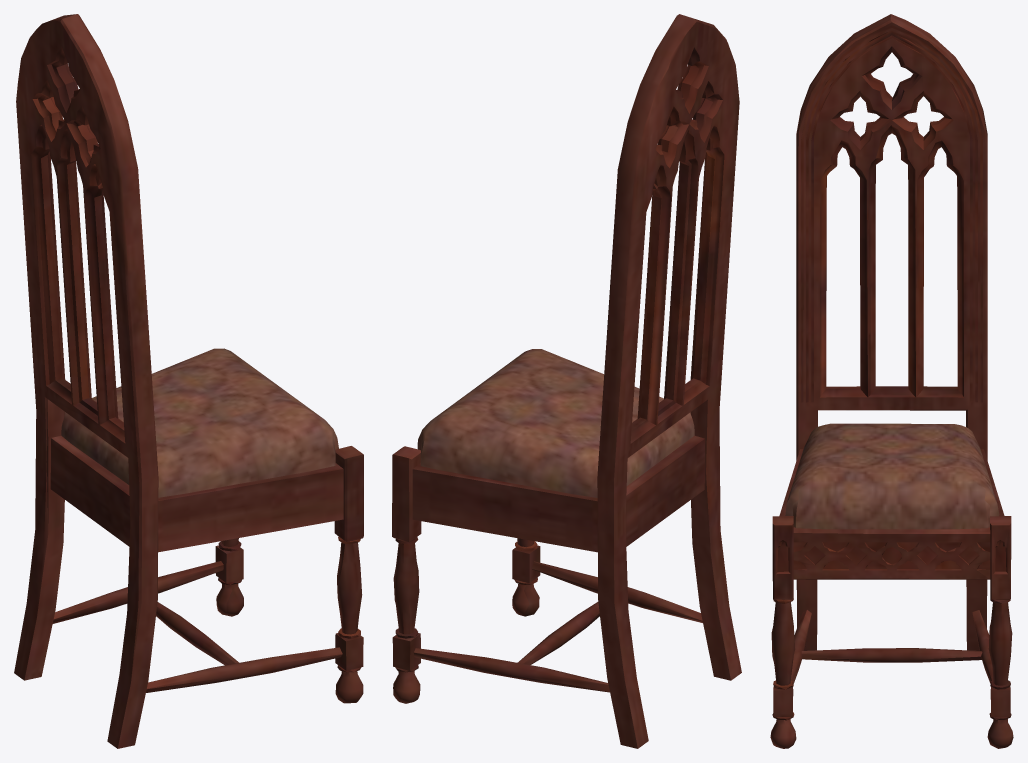
Rendered from chair-gothic.lod1.glb.
3 renders of one model, left to right at view 1: azimuth 30°, elevation 25°; view 2: azimuth 150°, elevation 25°; view 3: azimuth 270°, elevation 25°, orthographic. The views are drawn at different scales.
Parts seen in each view (by area): view 1: chair-gothic; view 2: chair-gothic; view 3: chair-gothic.
Boxes of the visible parts, box(x1,y1,x2,y2) form: chair-gothic: box(14, 14, 363, 748); chair-gothic: box(392, 14, 741, 748); chair-gothic: box(770, 14, 1013, 748).
Size of the model in its own units: 0.463 by 1.27 by 0.4424.
Materials: 1 (1 with a texture image).
